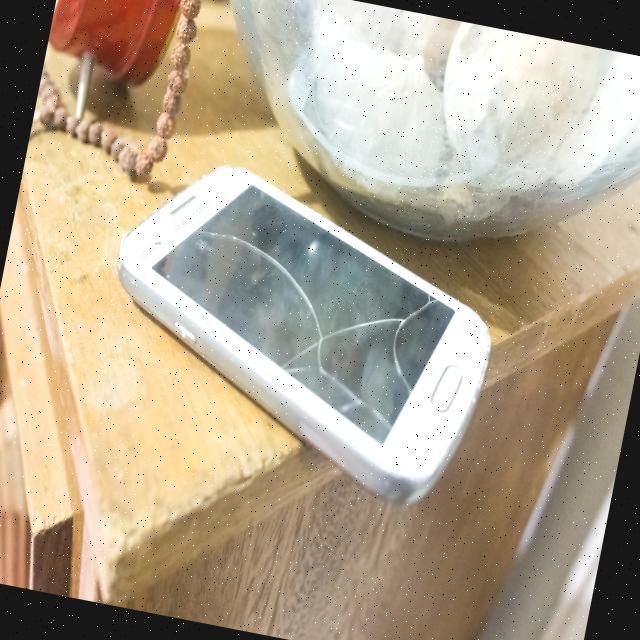Phone: (80, 142, 518, 518)
